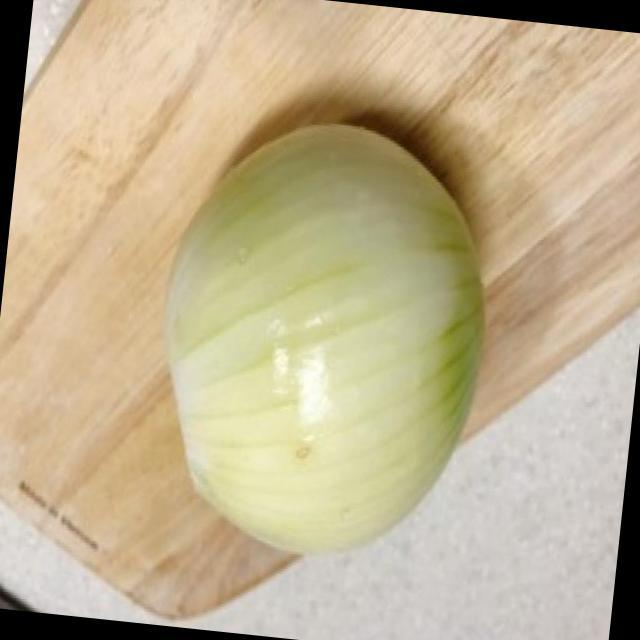Onion: (167, 119, 486, 552)
